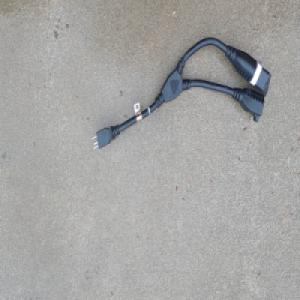Wire: (90, 36, 271, 153)
